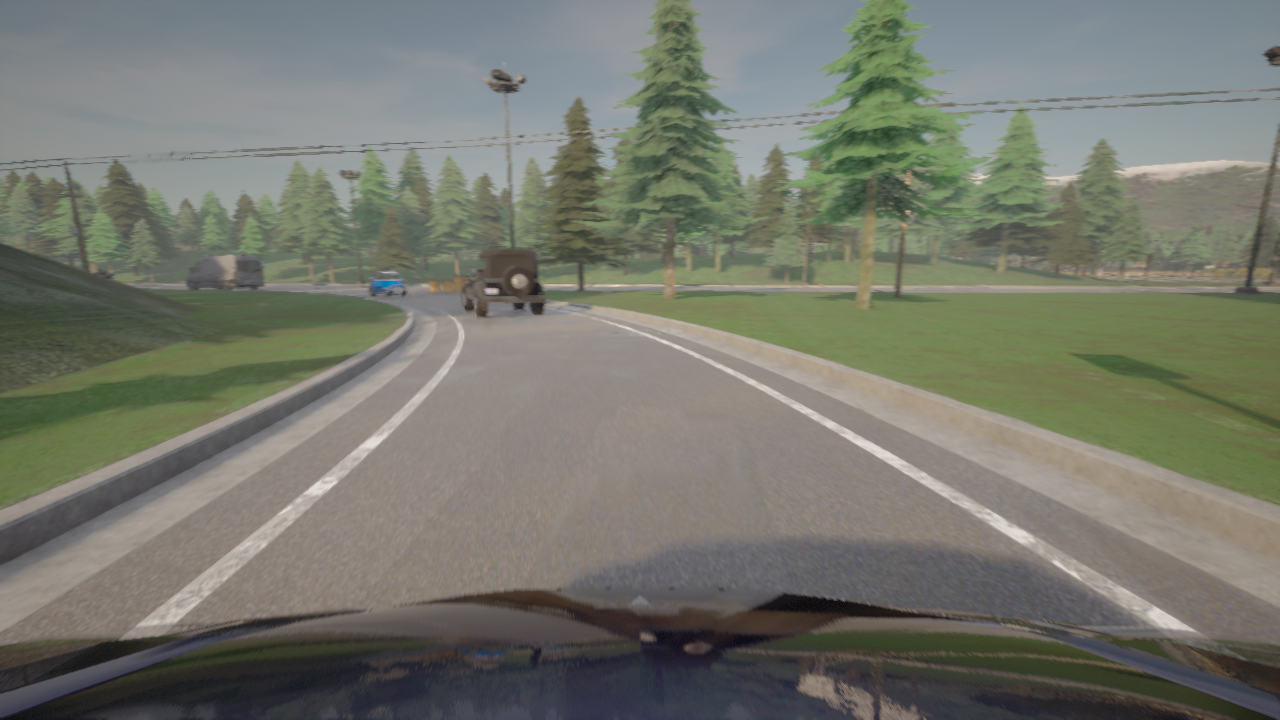cyclist: (0, 588, 1279, 719), (462, 248, 545, 317), (186, 255, 263, 290), (369, 271, 406, 297), (94, 273, 116, 280)
